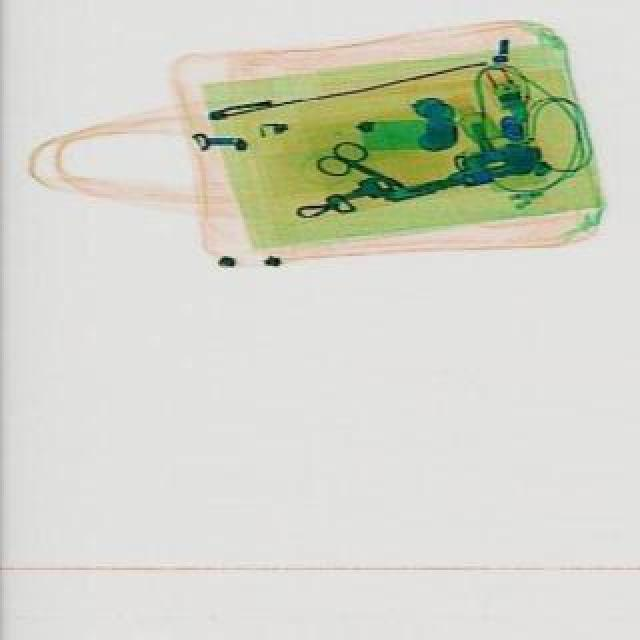pliers: (310, 136, 410, 208)
